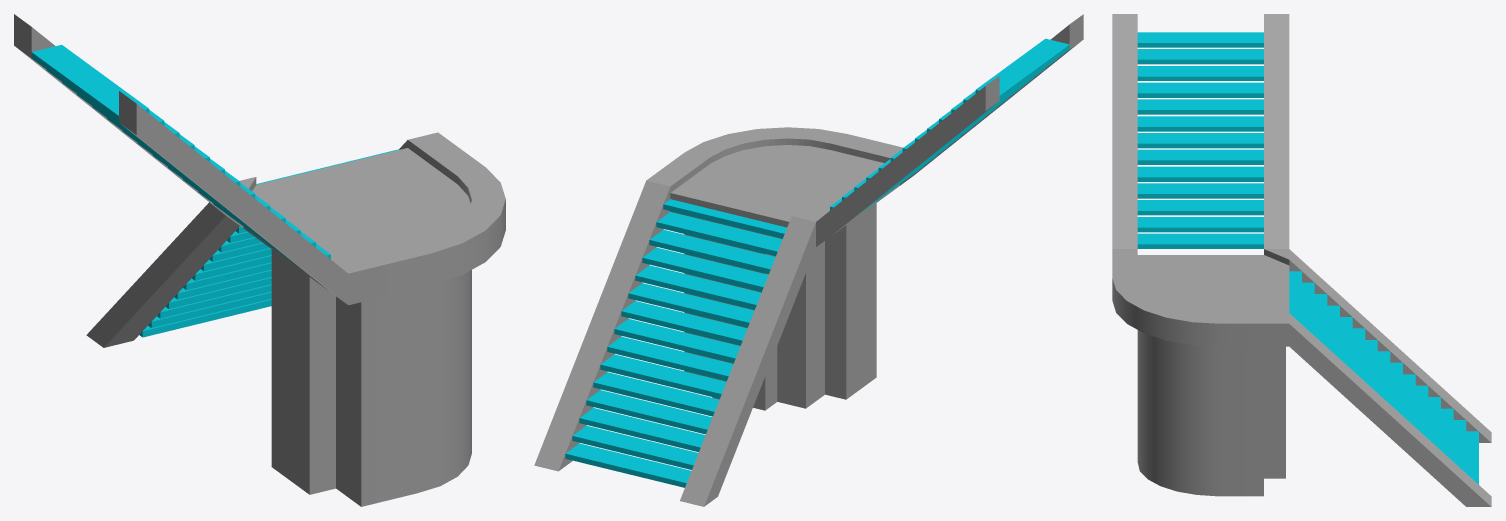
Rendered from Stairs.fbx.
3 views of the same model, side by side, from view 1: azimuth 30°, elevation 25°; view 2: azimuth 150°, elevation 25°; view 3: azimuth 270°, elevation 25° (orthographic). The views are drawn at different scales.
Parts seen in each view (by area): view 1: polySurface215; view 2: polySurface215; view 3: polySurface215.
Boxes of the visible parts, x1=… form: polySurface215: x1=14, y1=14, x2=505, y2=506; polySurface215: x1=534, y1=14, x2=1083, y2=506; polySurface215: x1=1112, y1=14, x2=1491, y2=506.
Size of the model in its own units: 14 by 15 by 15.
